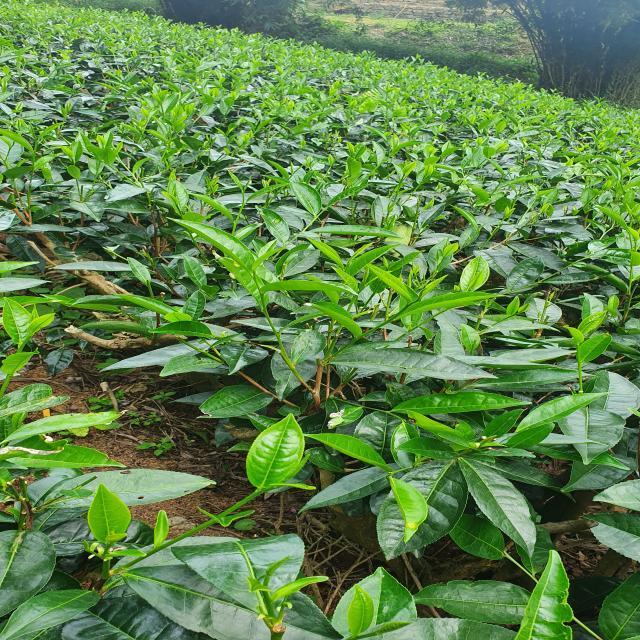Stem: (252, 490, 260, 497), (578, 363, 582, 368), (405, 304, 409, 308), (253, 276, 256, 280), (243, 203, 245, 205)
